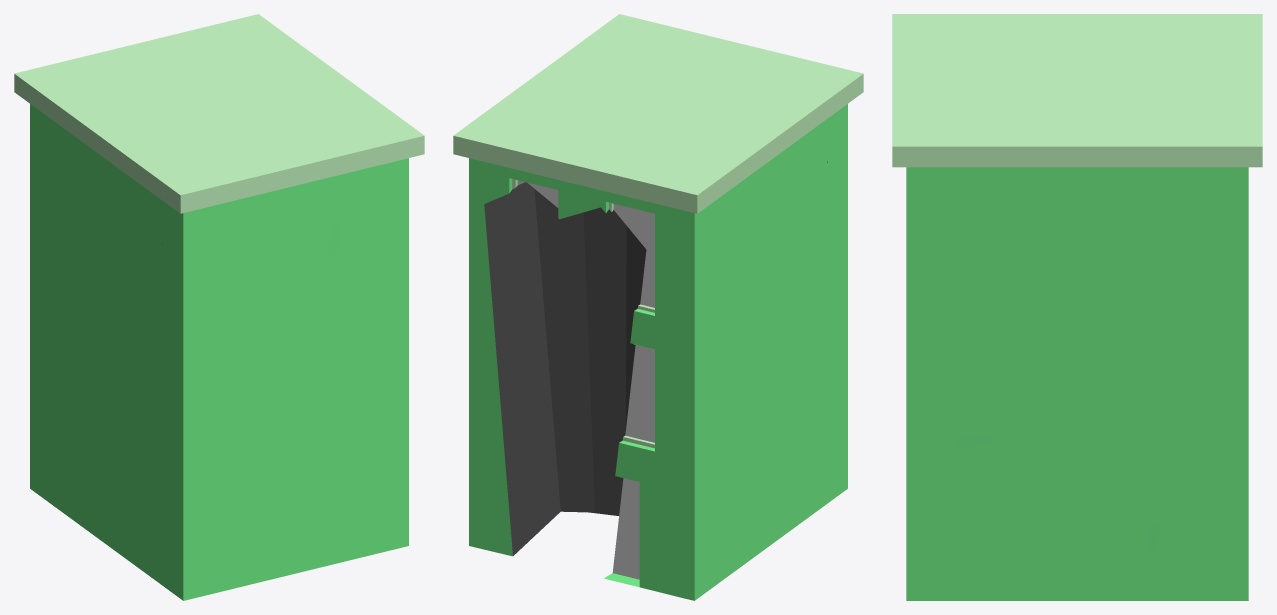
The model's file is model-destruction-scenario-static-level0-destroyed-building-1.fbx.
3 renders of one model, left to right at view 1: azimuth 30°, elevation 25°; view 2: azimuth 150°, elevation 25°; view 3: azimuth 270°, elevation 25°, orthographic. The views are drawn at different scales.
Visible parts, largest first — view 1: destroyed building; view 2: destroyed building; view 3: destroyed building.
Boxes of the visible parts, x1=… form: destroyed building: x1=14, y1=14, x2=424, y2=600; destroyed building: x1=453, y1=14, x2=863, y2=600; destroyed building: x1=892, y1=14, x2=1262, y2=600.
Bounding box in the file's own units: 17.71 × 15.02 × 24.24.
Materials: 3 (2 with a texture image).
